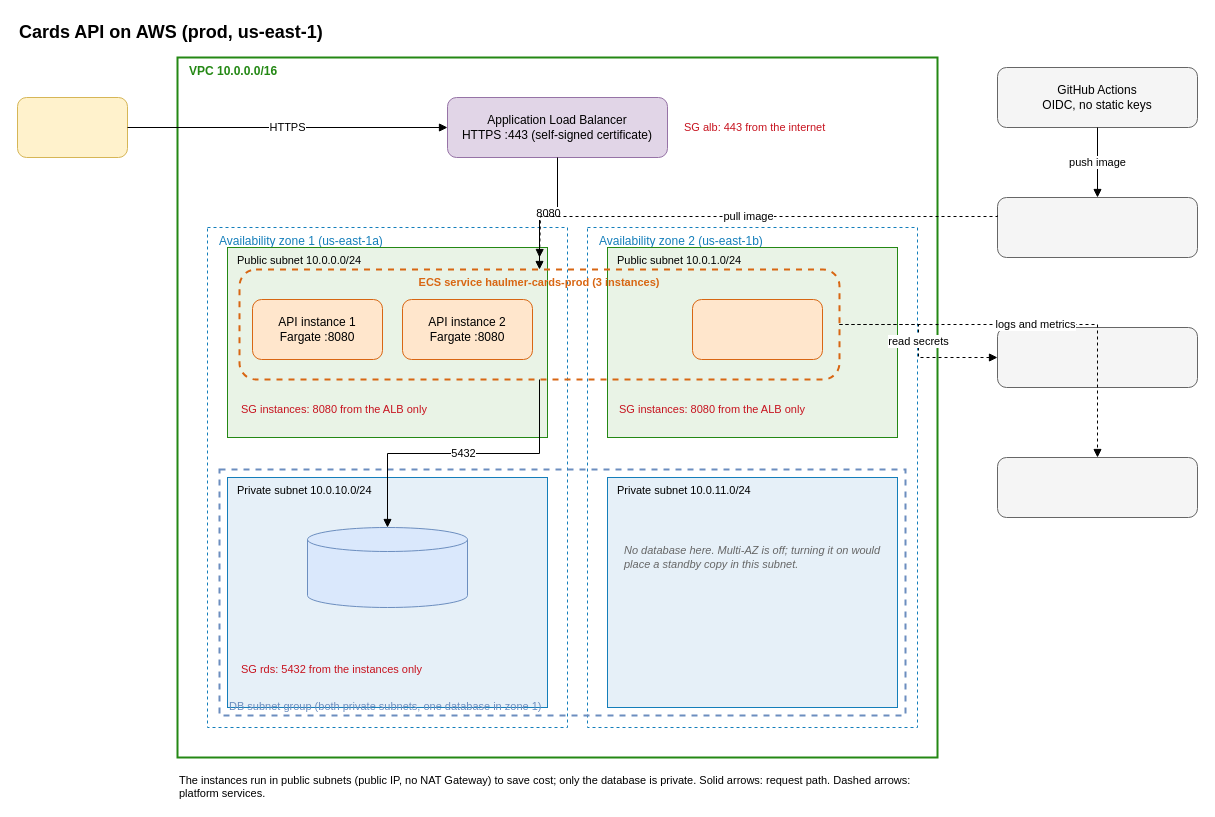
The diagram is 1215 pixels wide and 817 high, and some of its shapes have lost their labels. Here are the shapes that lost their labels. From the top down, the centre of each, then its label:
(x=72, y=127): Client
(x=1097, y=227): ECR haulmer-cards-api
(x=757, y=329): API instance 3 Fargate :8080
(x=1097, y=357): Secrets Manager DB password, PAN salt
(x=1097, y=487): CloudWatch logs, metrics, 3 alarms
(x=387, y=567): RDS Postgres 16 db.t4g.micro :5432
